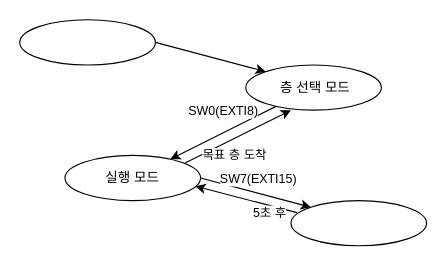
Some shapes in this 446 by 266 pixel diagram are drawn without their labels. Each missing label, with the box of its shape:
RESET: (19, 19, 155, 65)
중단 모드: (290, 199, 427, 246)
